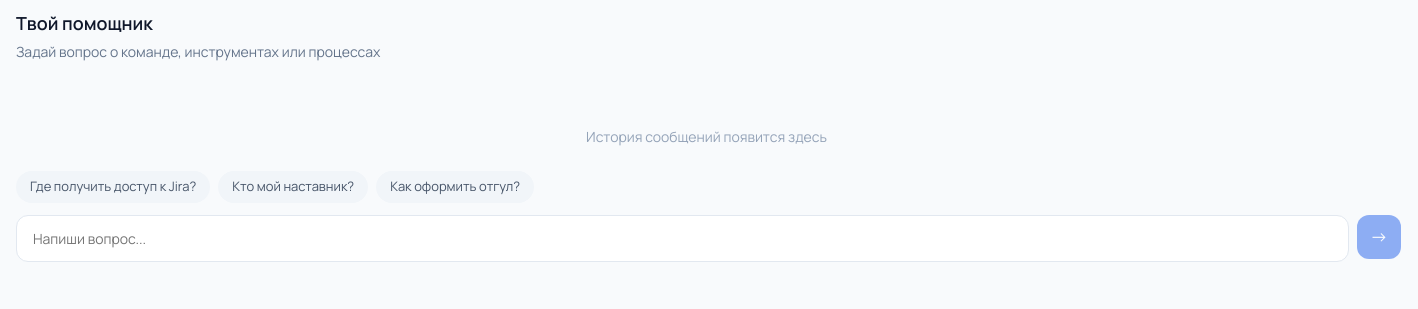
Scenario: ChatPanel › при ошибке 504 показывает текст ошибки
In the field with placeholder "Напиши вопрос...": point(682, 238) [16,214,1349,262], type "вопрос"
Then press Enter
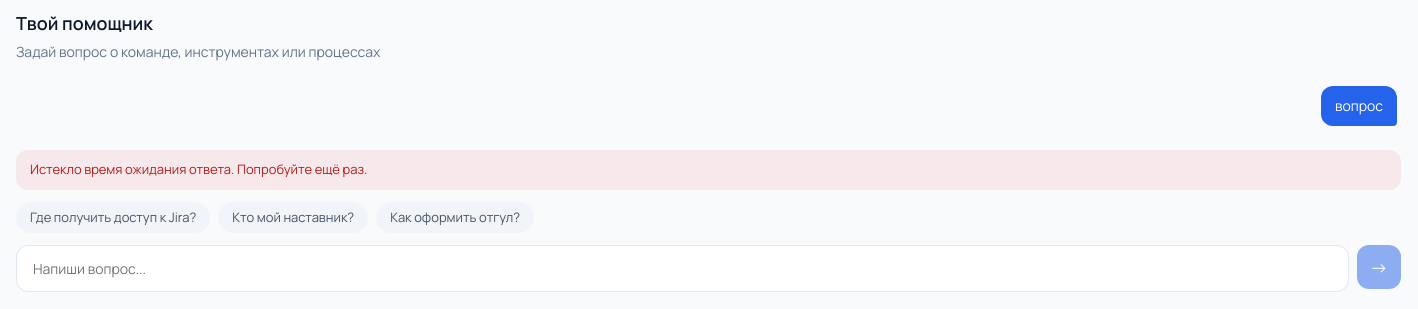
Result: the text "Истекло время ожидания ответа. Попробуйте ещё раз." is shown at [16,150,1401,190]
